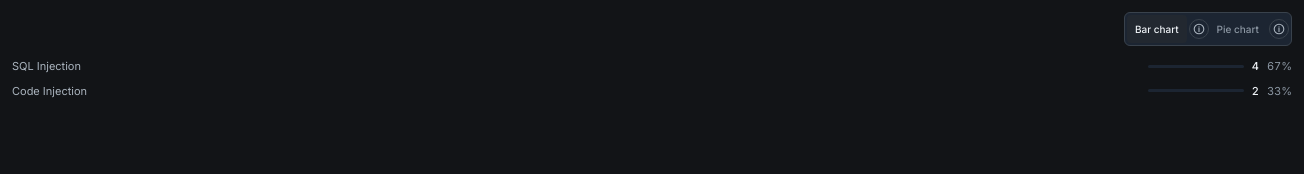
AttackTypePanel › explains both chart controls as presentation-only changes
Expected: the number of buttons named "About Pie chart" is 1, [1269,19,1289,39]
Click the button named "About Bar chart": (1199, 29) [1189,19,1209,39]
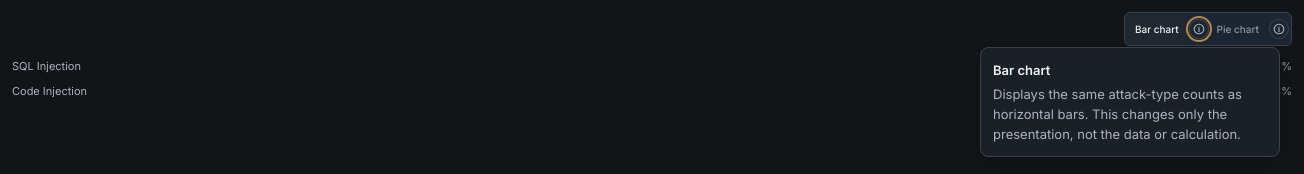
Expected: the element named "Bar chart explanation" shows "presentation, not the data or calculation", [993,86,1242,142]
Click the button named "About Pie chart": (1279, 29) [1269,19,1289,39]
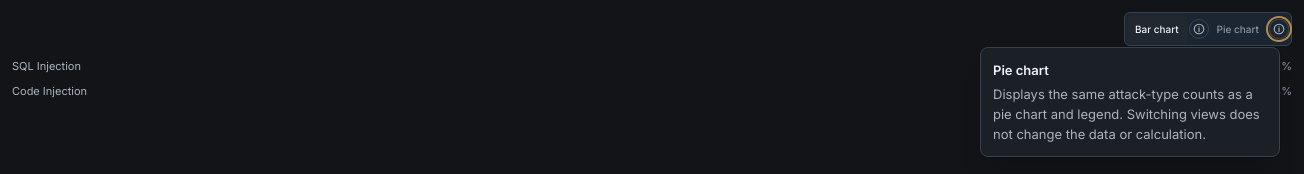
Expected: the element named "Pie chart explanation" shows "switching views does not change the data or calculation", [993,86,1260,142]
